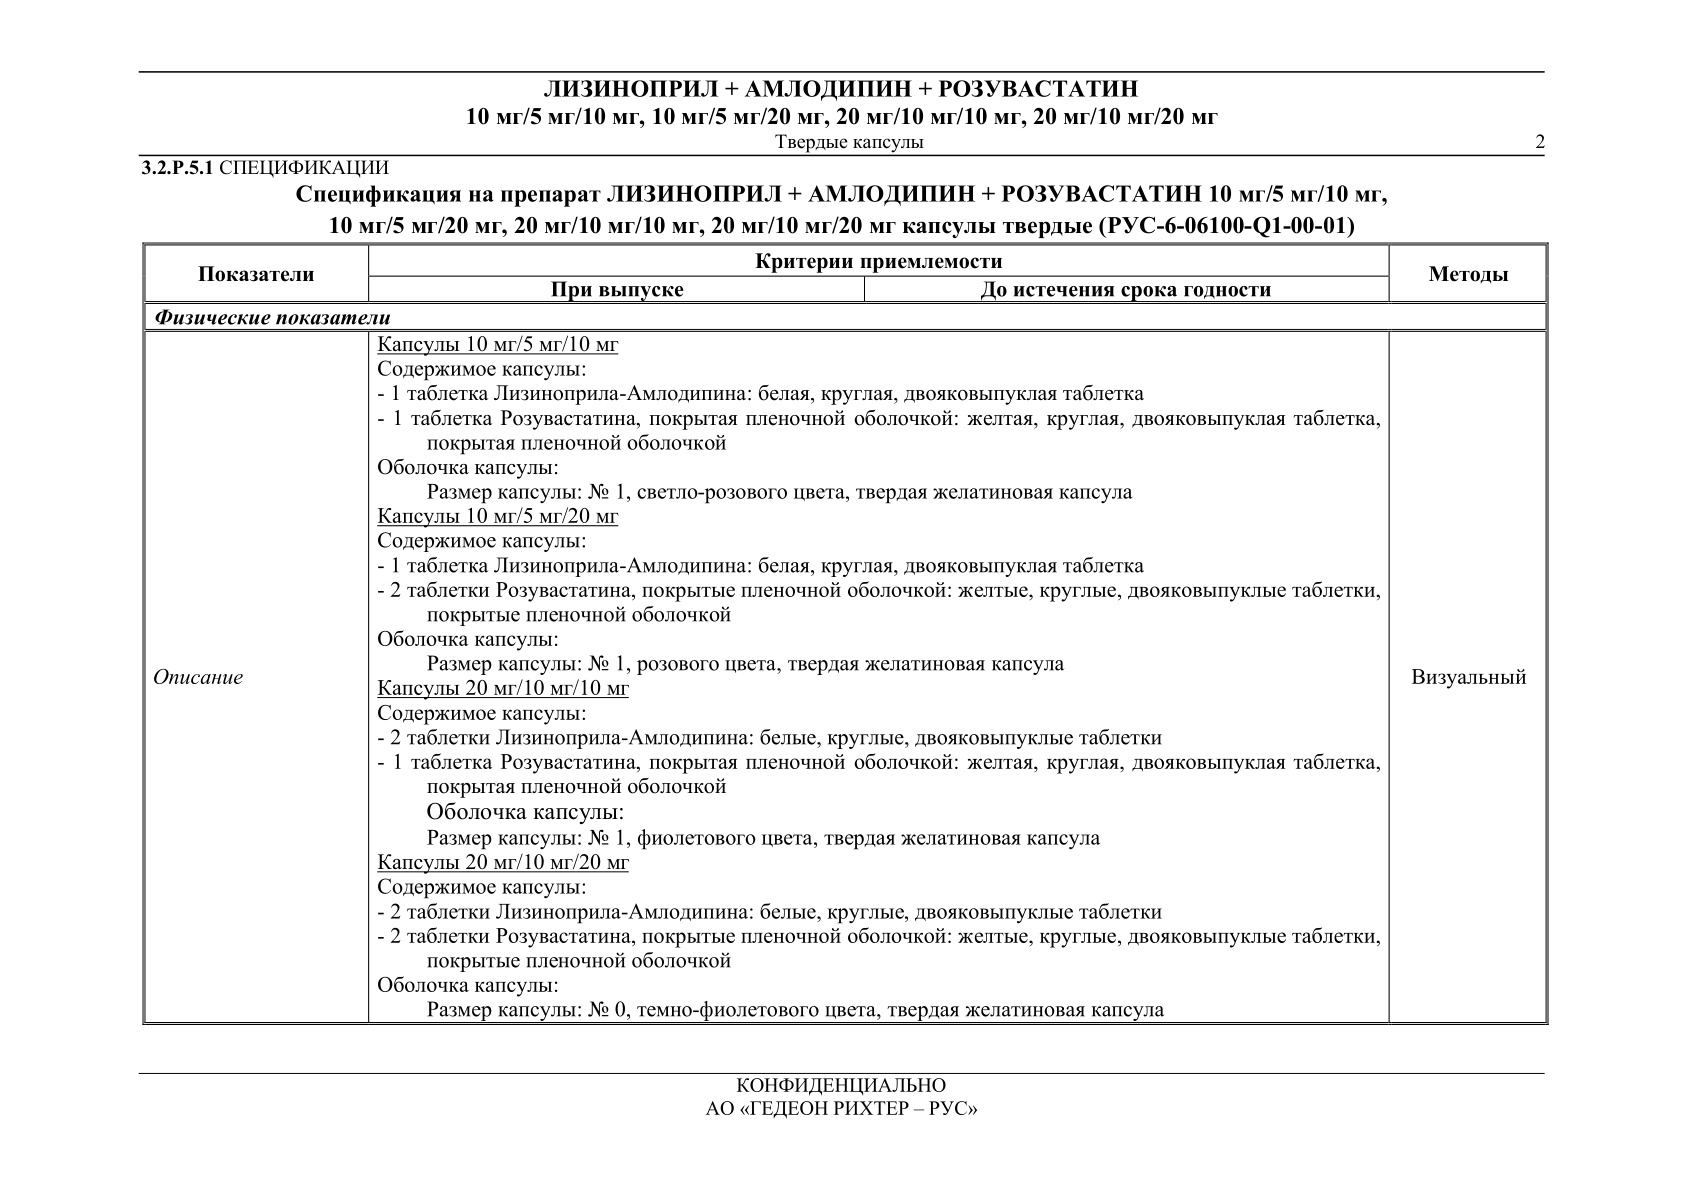merged_cells: (140, 242, 1549, 1025)
